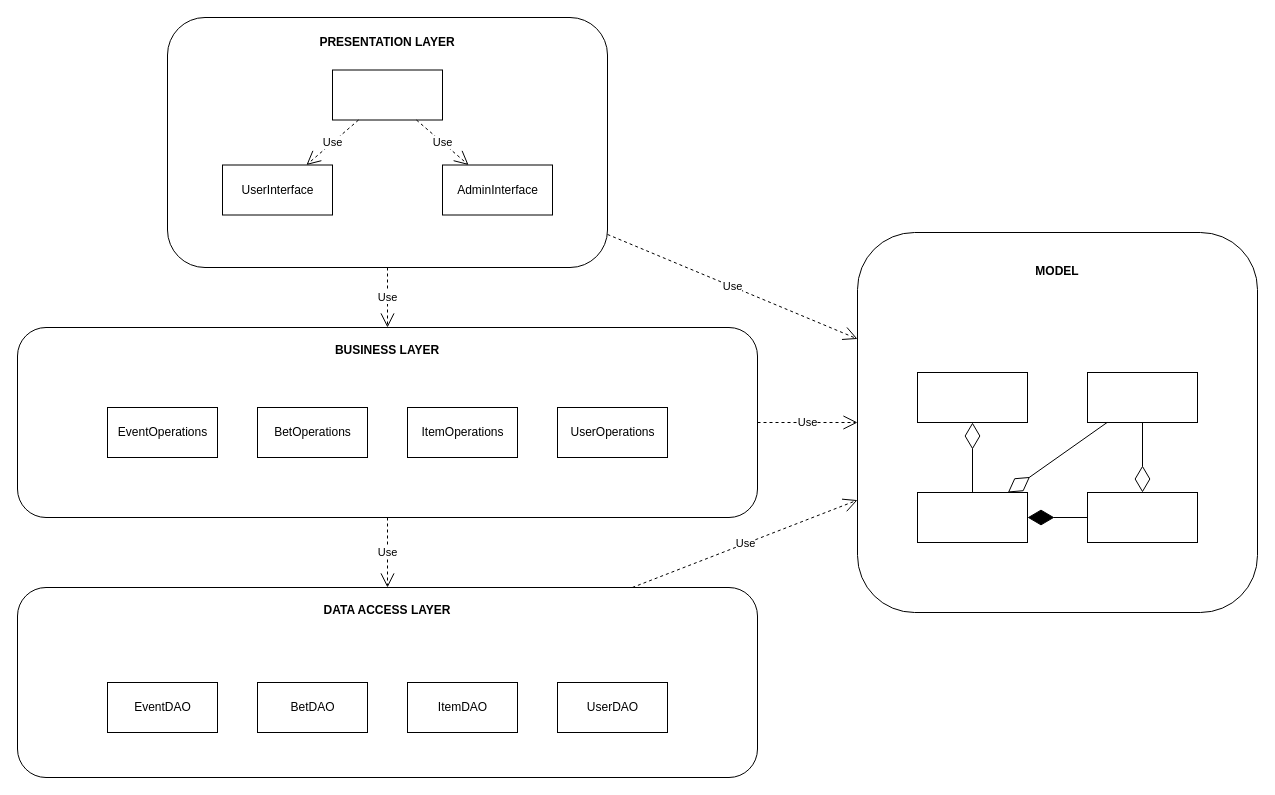
The diagram is 1275 pixels wide and 795 high, and some of its shapes have lost their labels. The centre of each missing label's shape, as x and y in pixels:
"Bet" goes at pixel 972 517.
"Event" goes at pixel 972 397.
"Item" goes at pixel 1142 517.
"LoginInterface" goes at pixel 387 94.
"User" goes at pixel 1142 397.
